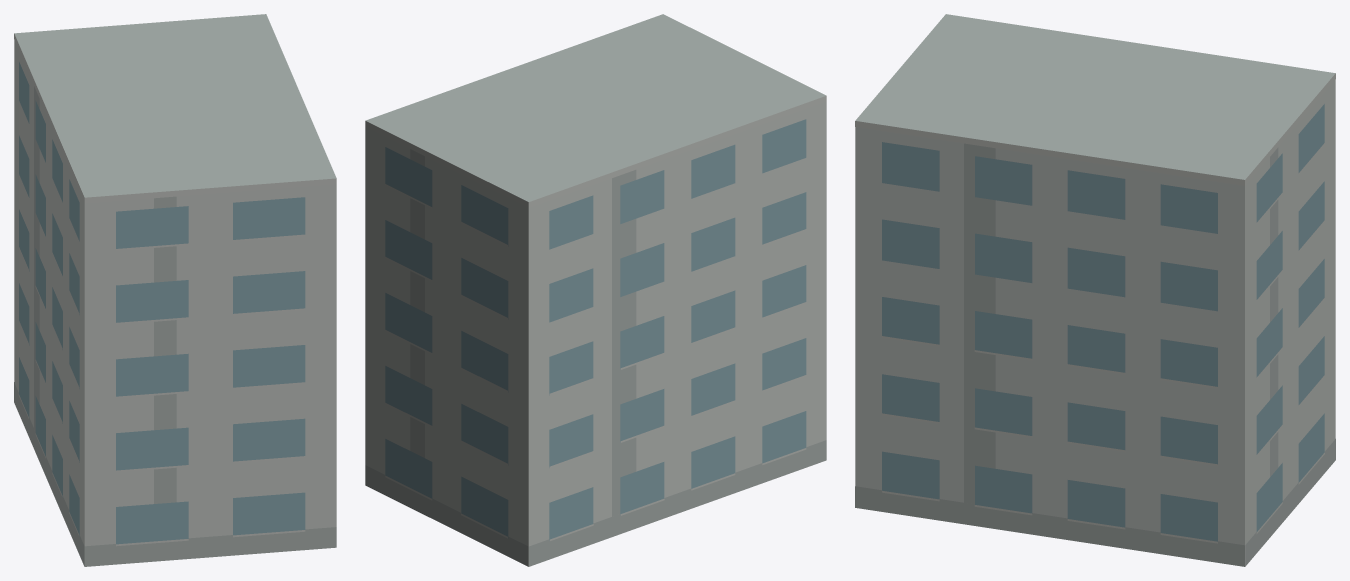
The model's file is residential-341f1fb3-fed2-45fc-b0b0-9af47b013923.glb.
3 renders of one model, left to right at view 1: azimuth 30°, elevation 25°; view 2: azimuth 150°, elevation 25°; view 3: azimuth 270°, elevation 25°, orthographic. The views are drawn at different scales.
Parts seen in each view (by area): view 1: residential-341f1fb3-fed2-45fc-b0b0-9af47b013923.tmp; view 2: residential-341f1fb3-fed2-45fc-b0b0-9af47b013923.tmp; view 3: residential-341f1fb3-fed2-45fc-b0b0-9af47b013923.tmp.
Part boxes in pixels (x1,y1,x2,y2): residential-341f1fb3-fed2-45fc-b0b0-9af47b013923.tmp: (14, 14, 336, 566); residential-341f1fb3-fed2-45fc-b0b0-9af47b013923.tmp: (365, 14, 826, 566); residential-341f1fb3-fed2-45fc-b0b0-9af47b013923.tmp: (855, 14, 1335, 566).
Bounding box in the file's own units: 14.03 × 15.25 × 17.18.
